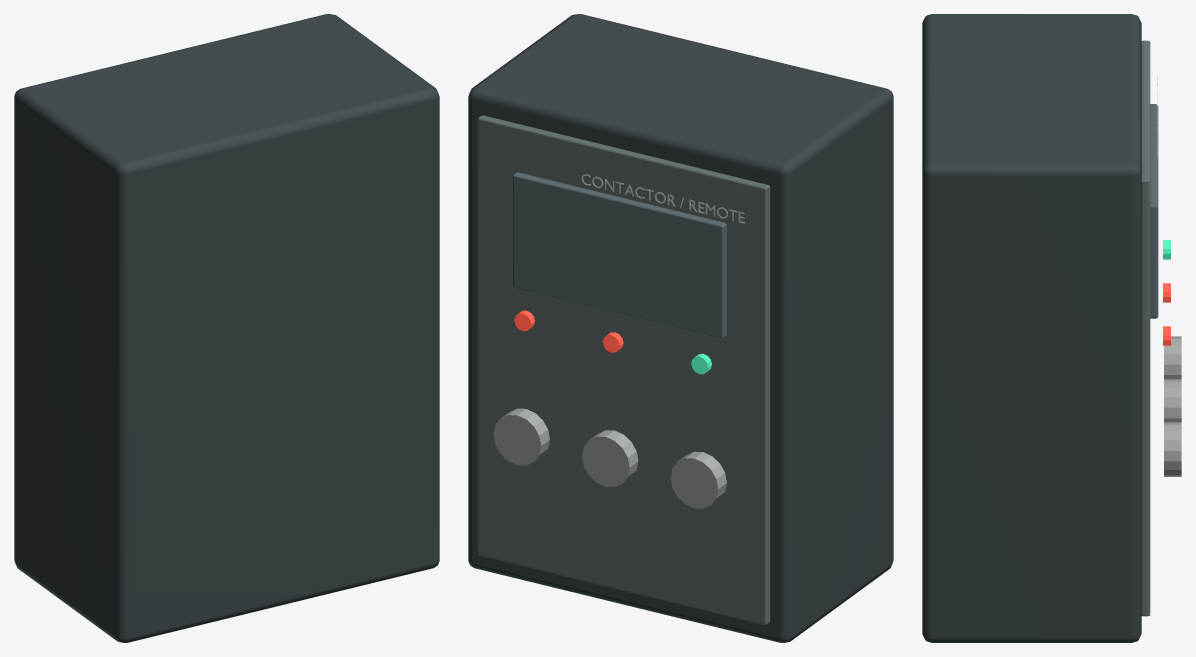
The model's file is generator_control_unit.glb.
3 views of the same model, side by side, from view 1: azimuth 30°, elevation 25°; view 2: azimuth 150°, elevation 25°; view 3: azimuth 270°, elevation 25° (orthographic).
Parts seen in each view (by area): view 1: VIS_generator_control_unit_cabinet; view 2: VIS_generator_control_unit_cabinet, VIS_generator_control_unit_door, VIS_generator_control_unit_meter, VIS_generator_control_unit_control_2, VIS_generator_control_unit_control_0, VIS_generator_control_unit_control_1, VIS_generator_control_unit_id; view 3: VIS_generator_control_unit_cabinet, VIS_generator_control_unit_door, VIS_generator_control_unit_meter, VIS_generator_control_unit_control_2, VIS_generator_control_unit_control_1, VIS_generator_control_unit_control_0.
Boxes of the visible parts, left/top/right/bottom form: VIS_generator_control_unit_cabinet: left=14, top=14, right=439, bottom=642; VIS_generator_control_unit_cabinet: left=468, top=14, right=893, bottom=642; VIS_generator_control_unit_door: left=477, top=115, right=770, bottom=624; VIS_generator_control_unit_meter: left=513, top=172, right=726, bottom=338; VIS_generator_control_unit_control_2: left=493, top=408, right=549, bottom=465; VIS_generator_control_unit_control_0: left=670, top=451, right=726, bottom=508; VIS_generator_control_unit_control_1: left=582, top=430, right=638, bottom=486; VIS_generator_control_unit_id: left=581, top=174, right=744, bottom=223; VIS_generator_control_unit_cabinet: left=922, top=14, right=1141, bottom=642; VIS_generator_control_unit_door: left=1141, top=40, right=1150, bottom=616; VIS_generator_control_unit_meter: left=1150, top=104, right=1158, bottom=318; VIS_generator_control_unit_control_2: left=1164, top=422, right=1181, bottom=476; VIS_generator_control_unit_control_1: left=1164, top=379, right=1181, bottom=422; VIS_generator_control_unit_control_0: left=1164, top=336, right=1181, bottom=379.
Size of the model in its own units: 0.95 by 1.35 by 0.6625.
